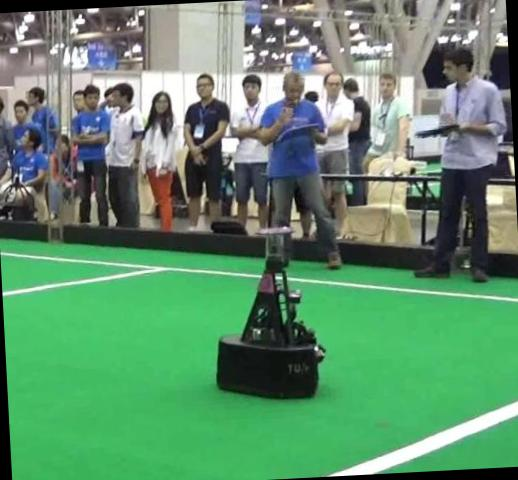person: (415, 49, 506, 282), (259, 72, 342, 269)
robot: (217, 227, 325, 397)
